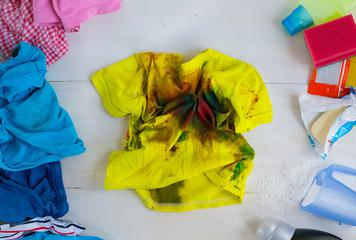gun: (138, 56, 238, 142), (148, 182, 186, 203), (226, 149, 247, 179), (159, 143, 183, 159), (247, 87, 259, 116)
